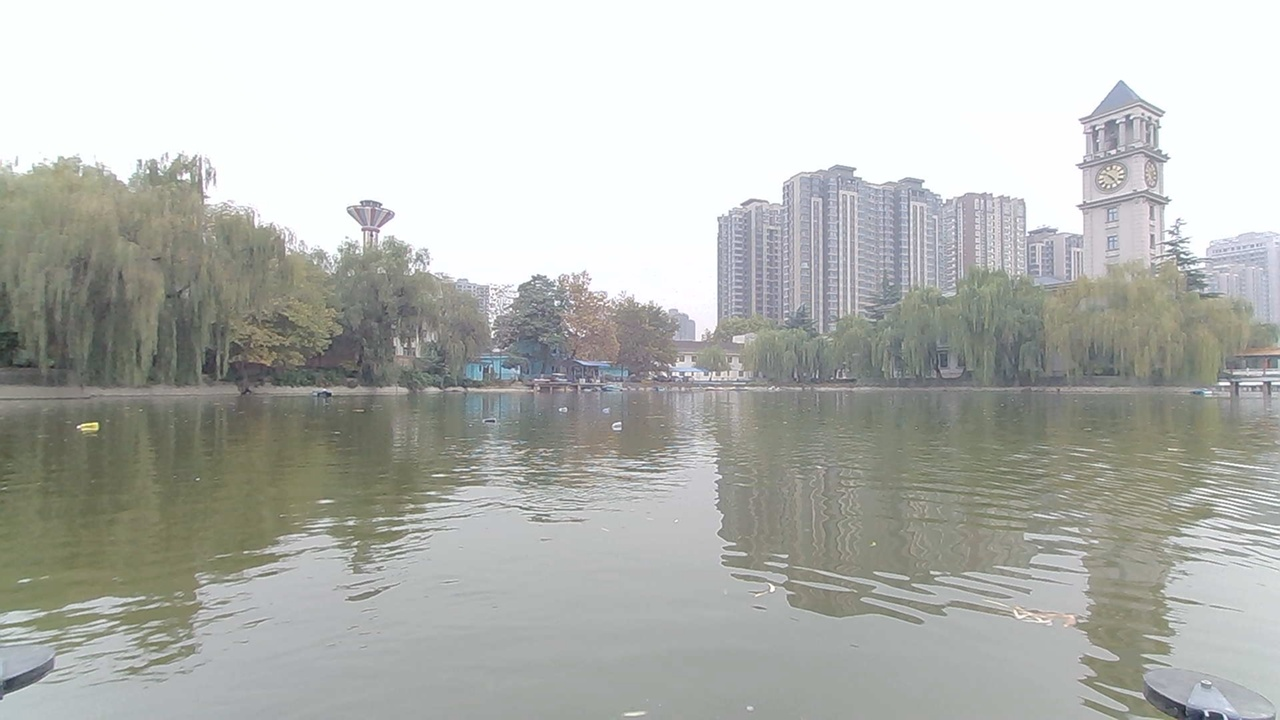bottle: (75, 416, 105, 440), (480, 408, 510, 430), (602, 417, 632, 438), (587, 401, 620, 418), (553, 398, 575, 417)
